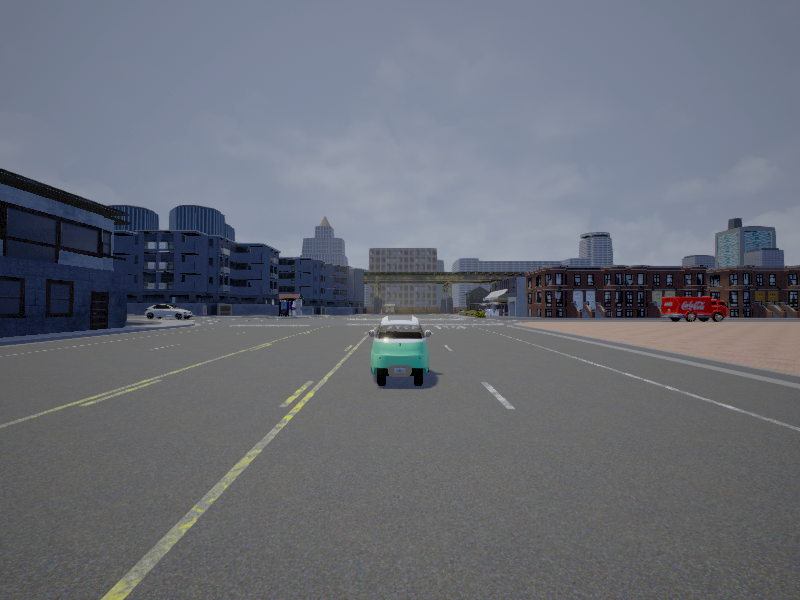Benign: (369, 314, 432, 387), (662, 297, 727, 323), (146, 304, 193, 320)
